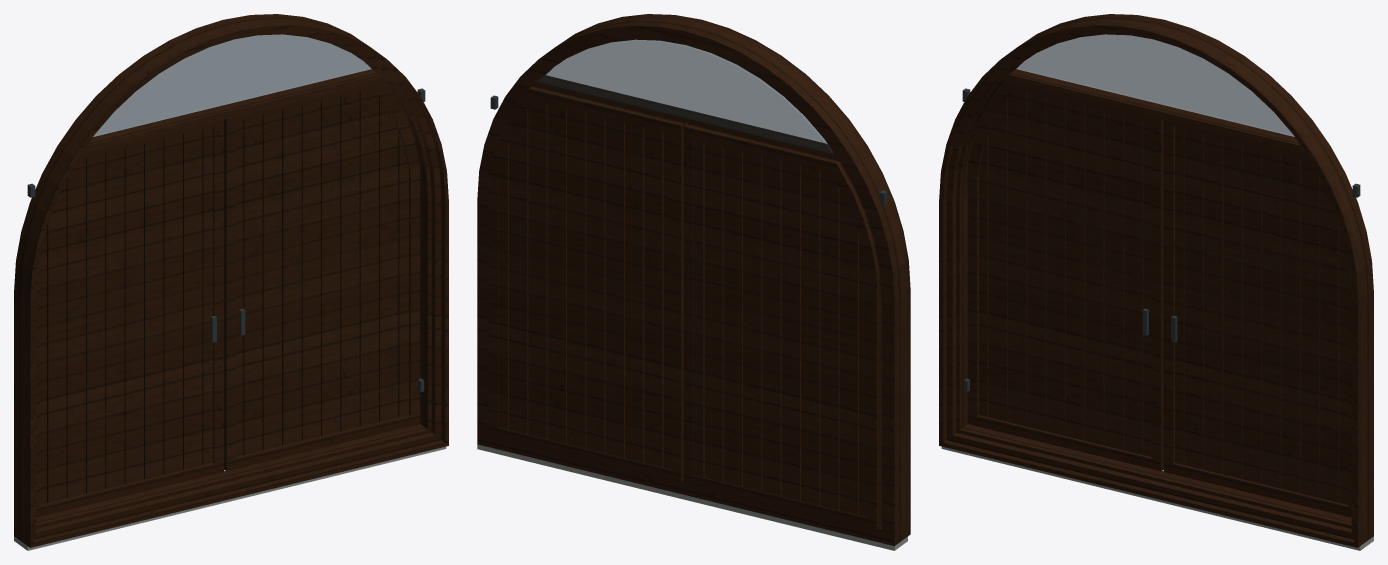
Rendered from madera_arch_porton.glb.
3 renders of one model, left to right at view 1: azimuth 30°, elevation 25°; view 2: azimuth 150°, elevation 25°; view 3: azimuth 330°, elevation 25°, orthographic.
Parts seen in each view (by area): view 1: transom_glass#0001, door_leaf_frame#0002, door_reveal#0001, door_moulding#0020, door_leaf_frame#0001, door_board#0004, door_board#0005, door_board#0009, door_board#0014, door_board#0007, door_board#0008, door_board#0017 (+34 smaller); view 2: door_reveal#0001, transom_glass#0001, door_leaf_frame#0001, door_leaf_frame#0002, door_moulding#0020, door_board#0004, door_board#0008, door_board#0012, door_board#0017, door_board#0006, door_board#0013, door_board#0014 (+15 smaller); view 3: transom_glass#0001, door_leaf_frame#0001, door_reveal#0001, door_moulding#0020, door_leaf_frame#0002, door_board#0008, door_board#0012, door_board#0016, door_board#0007, door_board#0013, door_board#0004, door_board#0005 (+34 smaller).
Boxes of the visible parts, x1,y1,x2,y2 form: transom_glass#0001: (93, 34, 371, 136); door_leaf_frame#0002: (224, 80, 420, 471); door_reveal#0001: (14, 14, 426, 540); door_moulding#0020: (20, 19, 448, 547); door_leaf_frame#0001: (36, 119, 224, 517); door_board#0004: (86, 153, 105, 493); door_board#0005: (105, 148, 124, 488); door_board#0009: (183, 129, 202, 469); door_board#0014: (282, 105, 301, 445); door_board#0007: (144, 139, 163, 479); door_board#0008: (163, 134, 182, 474); door_board#0017: (340, 91, 359, 431); door_reveal#0001: (477, 20, 901, 545); transom_glass#0001: (537, 39, 833, 153); door_leaf_frame#0001: (683, 124, 881, 530); door_leaf_frame#0002: (488, 86, 686, 482); door_moulding#0020: (549, 14, 910, 541); door_board#0004: (801, 165, 820, 505); door_board#0008: (723, 146, 742, 486); door_board#0012: (644, 127, 663, 467); door_board#0017: (547, 103, 566, 443); door_board#0006: (762, 156, 781, 496); door_board#0013: (625, 122, 644, 462); door_board#0014: (605, 117, 624, 457); transom_glass#0001: (1016, 34, 1294, 136); door_leaf_frame#0001: (967, 80, 1163, 471); door_reveal#0001: (961, 14, 1373, 540); door_moulding#0020: (939, 18, 1366, 547); door_leaf_frame#0002: (1163, 119, 1351, 517); door_board#0008: (1104, 110, 1124, 449); door_board#0012: (1184, 129, 1203, 469); door_board#0016: (1262, 148, 1281, 488); door_board#0007: (1085, 105, 1104, 445); door_board#0013: (1204, 134, 1223, 474); door_board#0004: (1027, 91, 1046, 431); door_board#0005: (1046, 95, 1065, 435).
Size of the model in its own units: 3.2 by 3.44 by 0.258.
4 materials, 1 textured.
